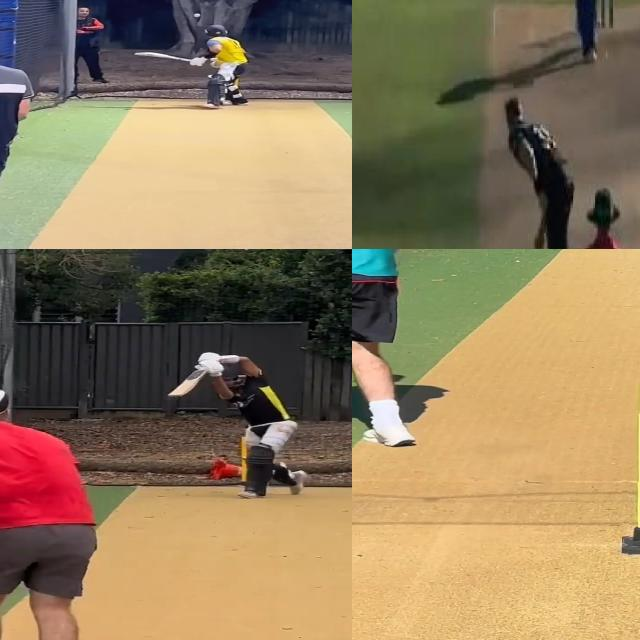Cricket ball: (600, 48, 610, 62), (193, 13, 201, 17)
